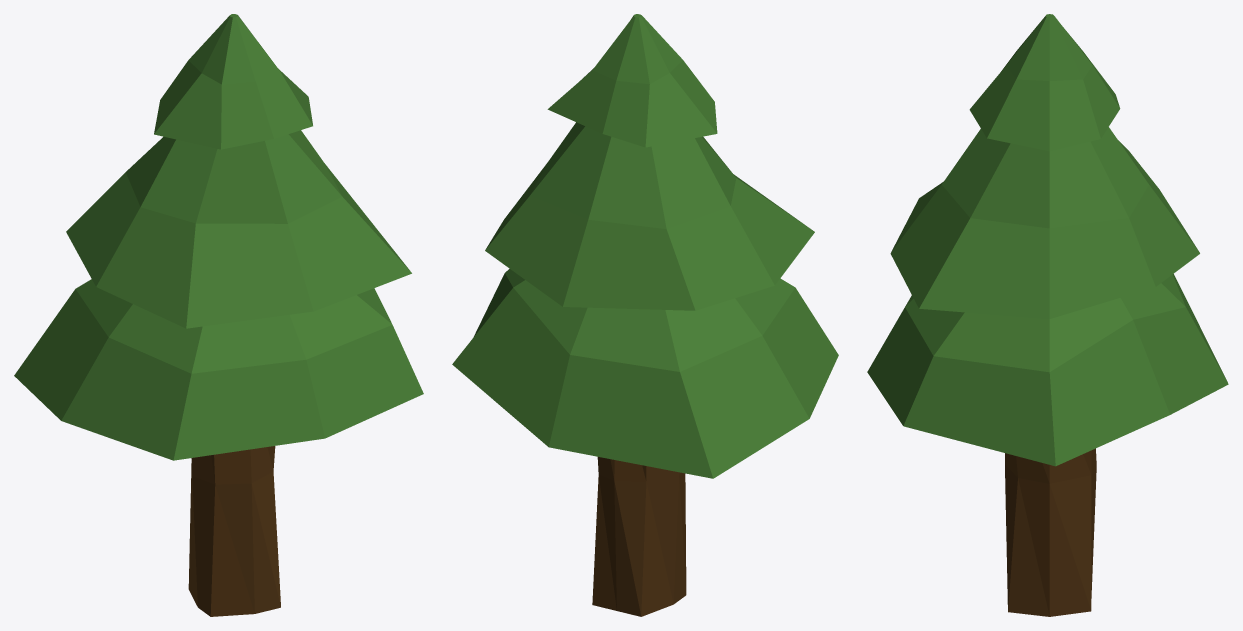
File: spruce_tree_lowpoly.glb
3 renders of one model, left to right at view 1: azimuth 30°, elevation 25°; view 2: azimuth 150°, elevation 25°; view 3: azimuth 270°, elevation 25°, orthographic.
Visible parts, largest first — view 1: Cube; view 2: Cube; view 3: Cube.
Part boxes in pixels (x1=…): Cube: x1=14, y1=14, x2=423, y2=616; Cube: x1=452, y1=14, x2=838, y2=616; Cube: x1=867, y1=14, x2=1228, y2=616.
Bounding box in the file's own units: 2.37 × 3.9 × 2.19.
